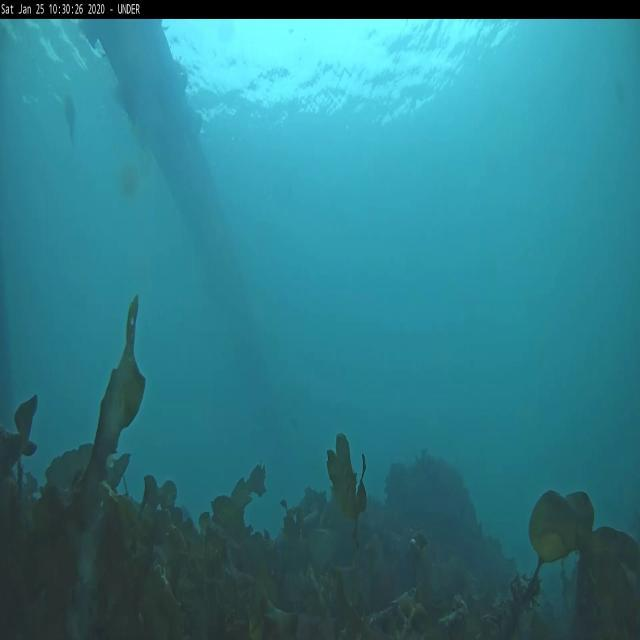fish: (61, 91, 79, 155)
